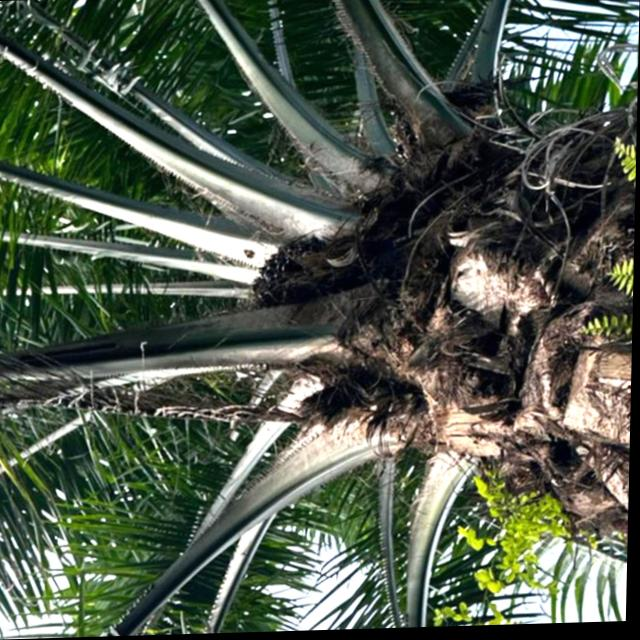almost: (247, 233, 340, 317)
